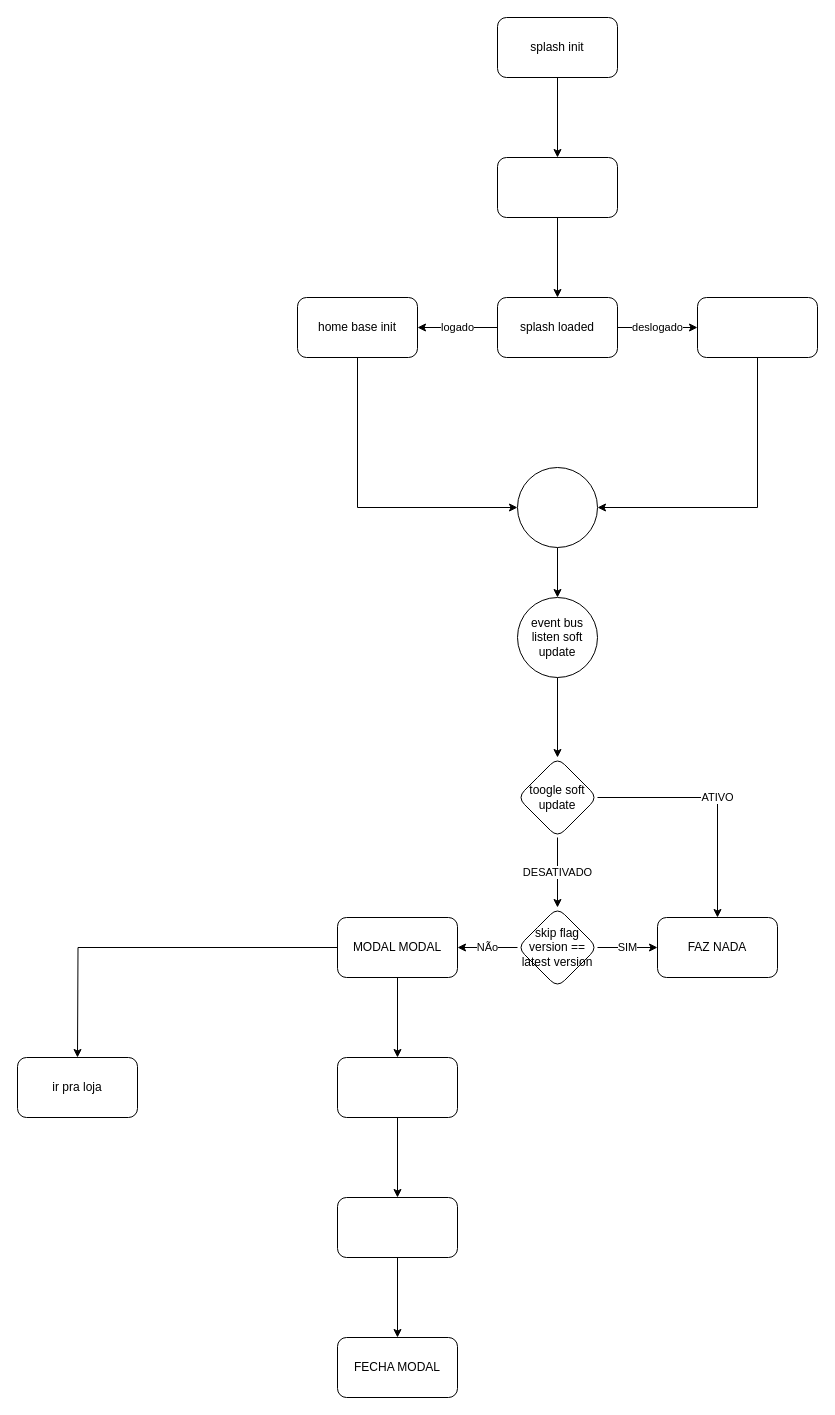
The diagram is 835 pixels wide and 1415 high, and some of its shapes have lost their labels. The shapes that lost their labels are listed below. From the top down, each one's box as (x1, y1, x2, y2) in pixels, then its label:
(496, 156, 618, 218): sincroniza versão remota Stores com local
(696, 296, 818, 358): login init
(516, 466, 598, 548): event bus soft update
(336, 1056, 458, 1118): SKIP
(336, 1196, 458, 1258): PERSISTE LATEST VERSION NO SKIP FLAG VERSION
